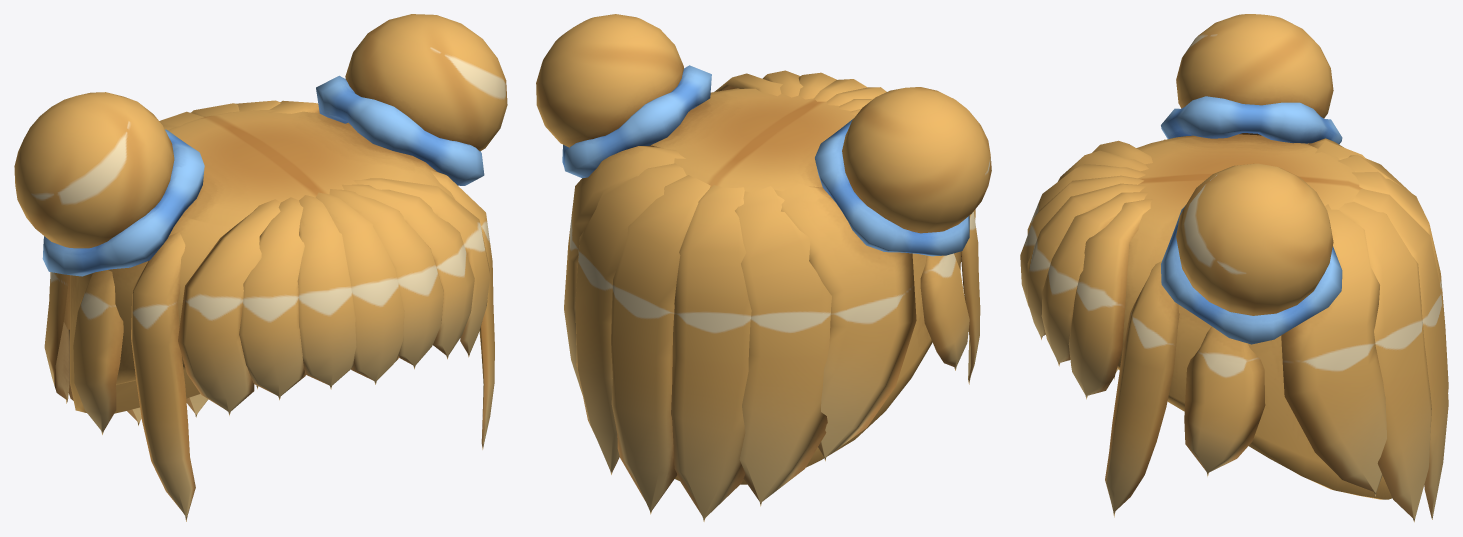
The model's file is KawaiiSpaceBuns_Blond.fbx.
The picture shows the model from 3 angles, left to right: view 1: azimuth 30°, elevation 25°; view 2: azimuth 150°, elevation 25°; view 3: azimuth 270°, elevation 25°; orthographic projection. The views are drawn at different scales.
Visible parts, largest first — view 1: KawaiiSpaceBuns; view 2: KawaiiSpaceBuns; view 3: KawaiiSpaceBuns.
Boxes of the visible parts, x1=… form: KawaiiSpaceBuns: x1=14, y1=14, x2=507, y2=521; KawaiiSpaceBuns: x1=536, y1=14, x2=991, y2=521; KawaiiSpaceBuns: x1=1020, y1=14, x2=1448, y2=522.
Size of the model in its own units: 1.72 by 1.51 by 1.42.
Materials: 1 (1 with a texture image).
